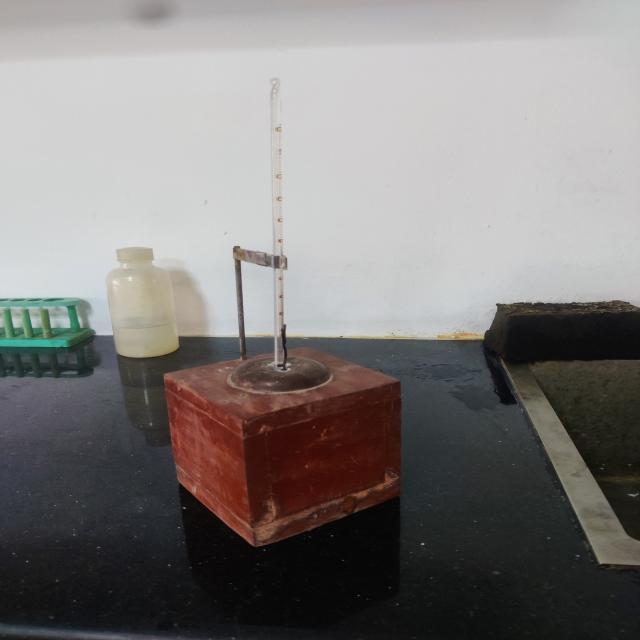Calorimeter: (137, 64, 432, 563)
